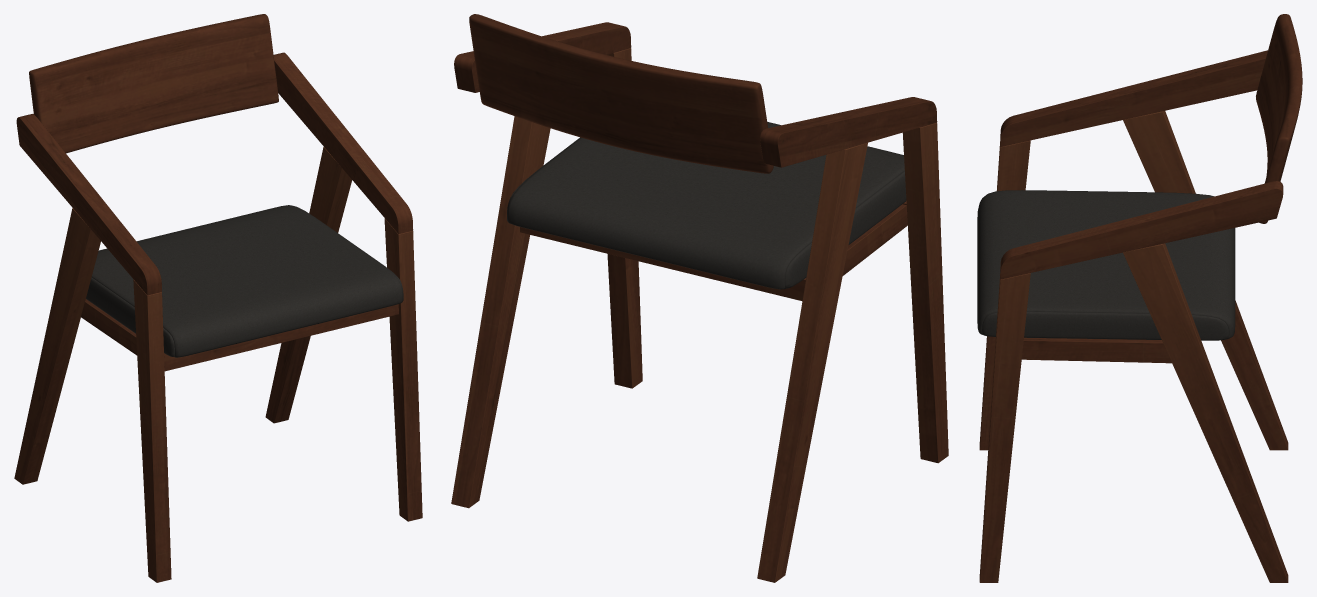
The model's file is chair_23.001.fbx.
The picture shows the model from 3 angles, left to right: view 1: azimuth 30°, elevation 25°; view 2: azimuth 150°, elevation 25°; view 3: azimuth 270°, elevation 25°; orthographic projection. The views are drawn at different scales.
Parts seen in each view (by area): view 1: chair_23.001; view 2: chair_23.001; view 3: chair_23.001.
Part boxes in pixels (x1=…): chair_23.001: x1=14, y1=14, x2=422, y2=582; chair_23.001: x1=451, y1=14, x2=948, y2=582; chair_23.001: x1=977, y1=14, x2=1302, y2=582.
Size of the model in its own units: 51.56 by 74.92 by 50.48.
1 material, 1 textured.
